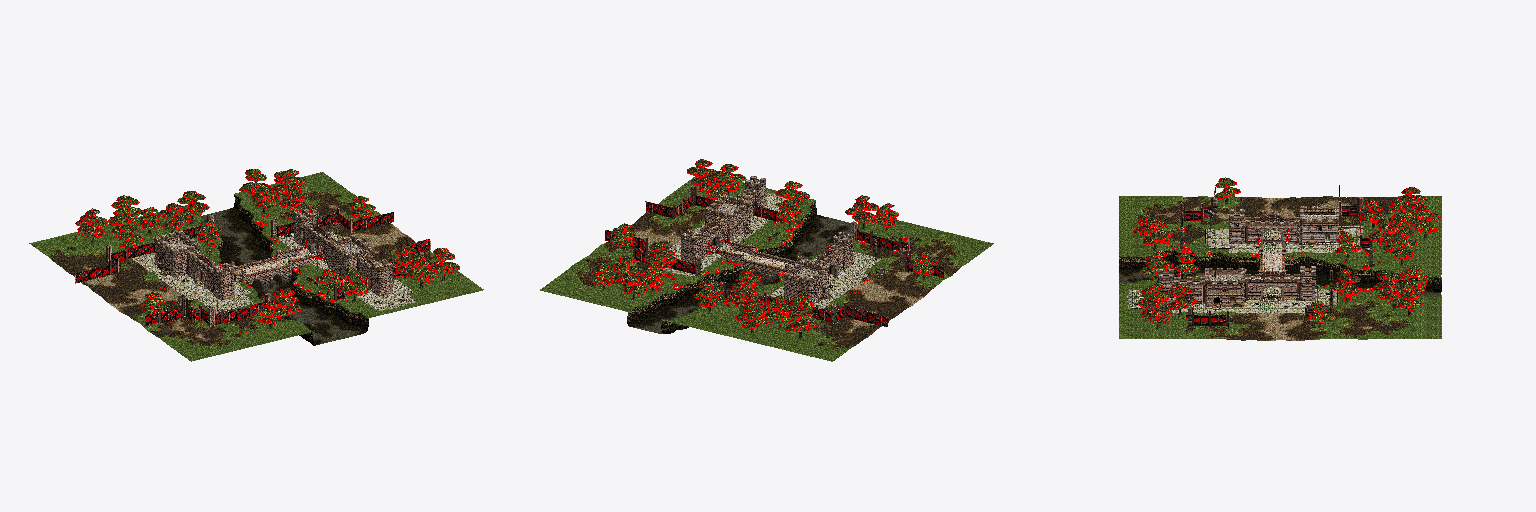
3 views of the same model, side by side, from view 1: azimuth 30°, elevation 25°; view 2: azimuth 150°, elevation 25°; view 3: azimuth 270°, elevation 25° (orthographic).
Parts seen in each view (by area): view 1: Object.009; view 2: Object.009; view 3: Object.009.
Part boxes in pixels (bbox=[...]): Object.009: bbox=[29, 169, 483, 361]; Object.009: bbox=[540, 159, 993, 361]; Object.009: bbox=[1119, 177, 1441, 340].
Bounding box in the file's own units: 88.2 × 15.74 × 82.49.
23 materials, 23 textured.